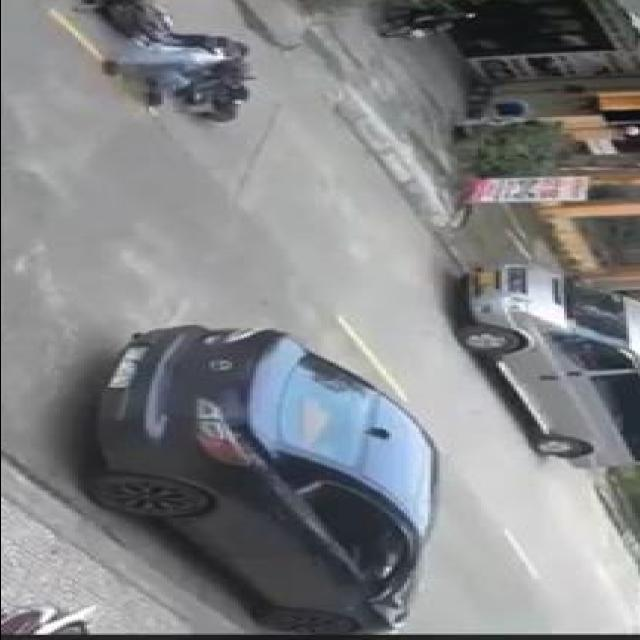accident: (33, 0, 305, 127)
